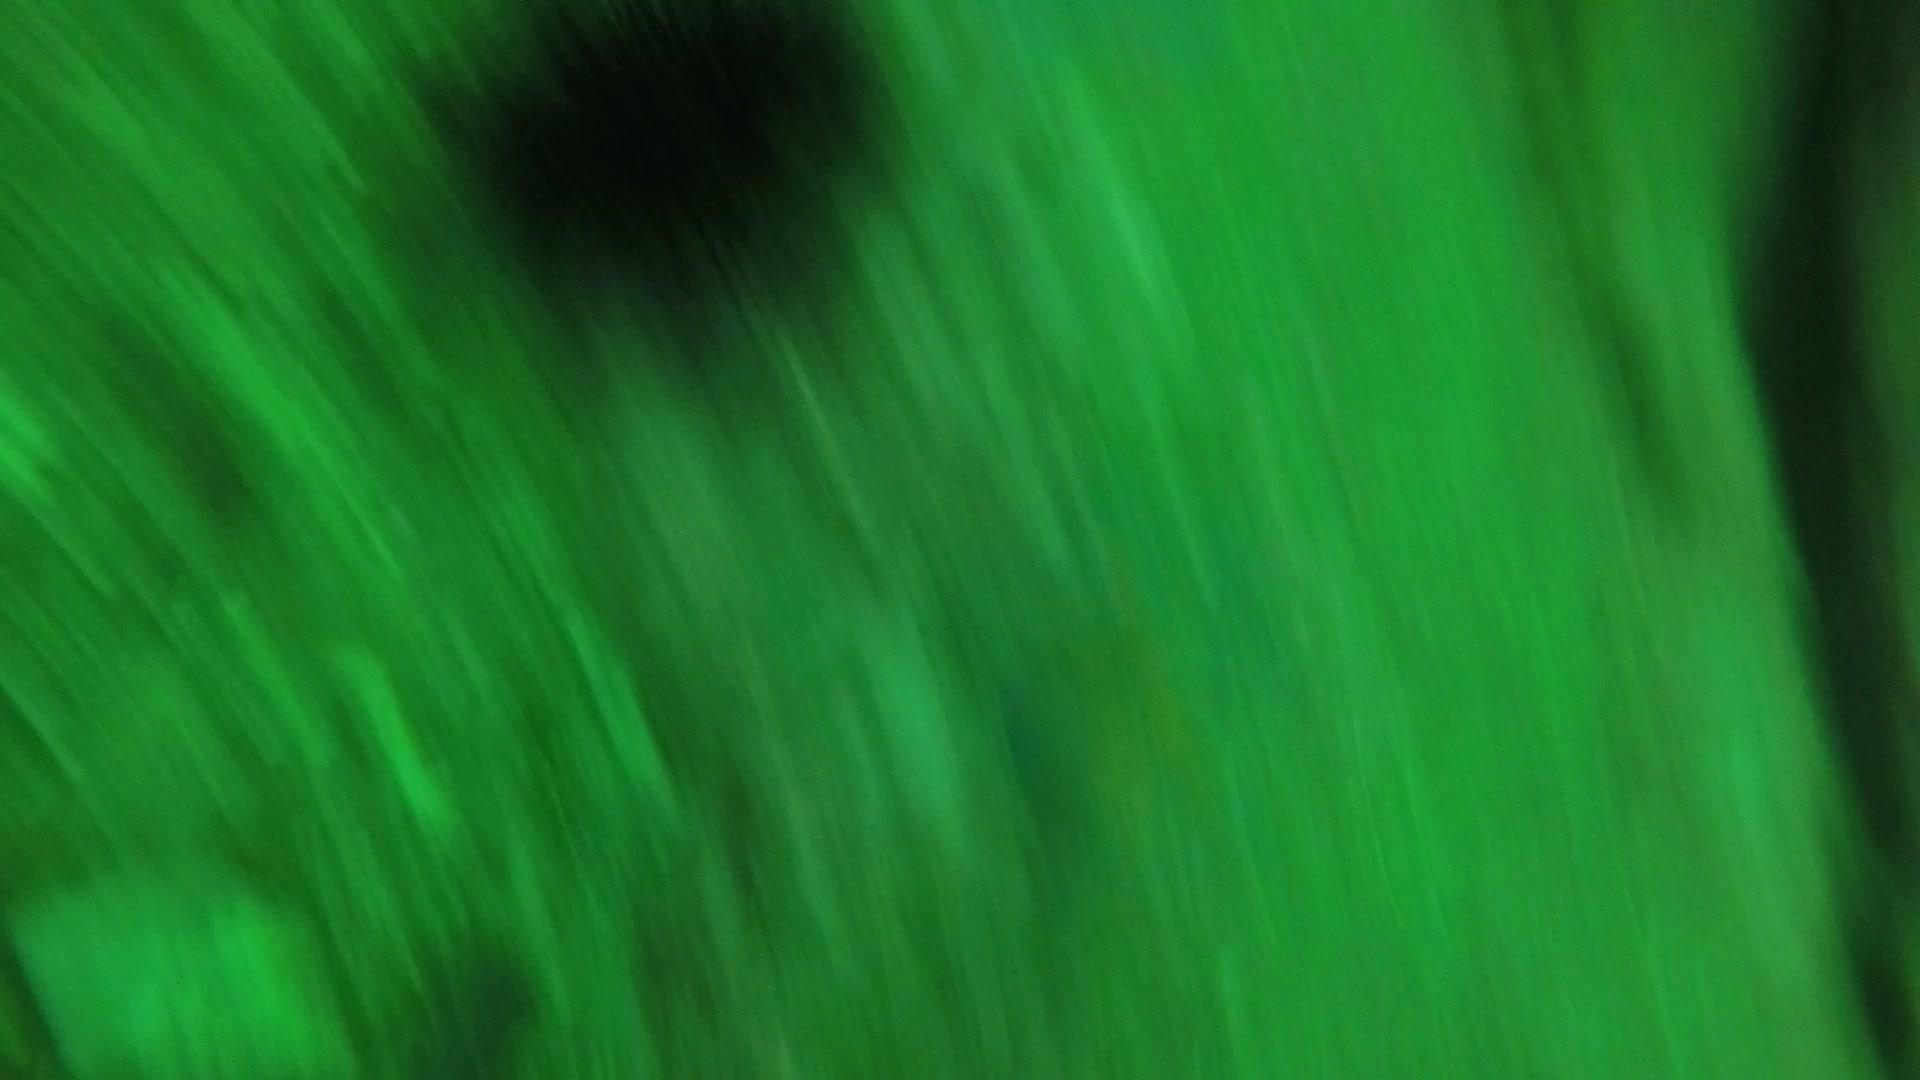echinus: (456, 5, 907, 338)
starfish: (3, 843, 348, 1080)
